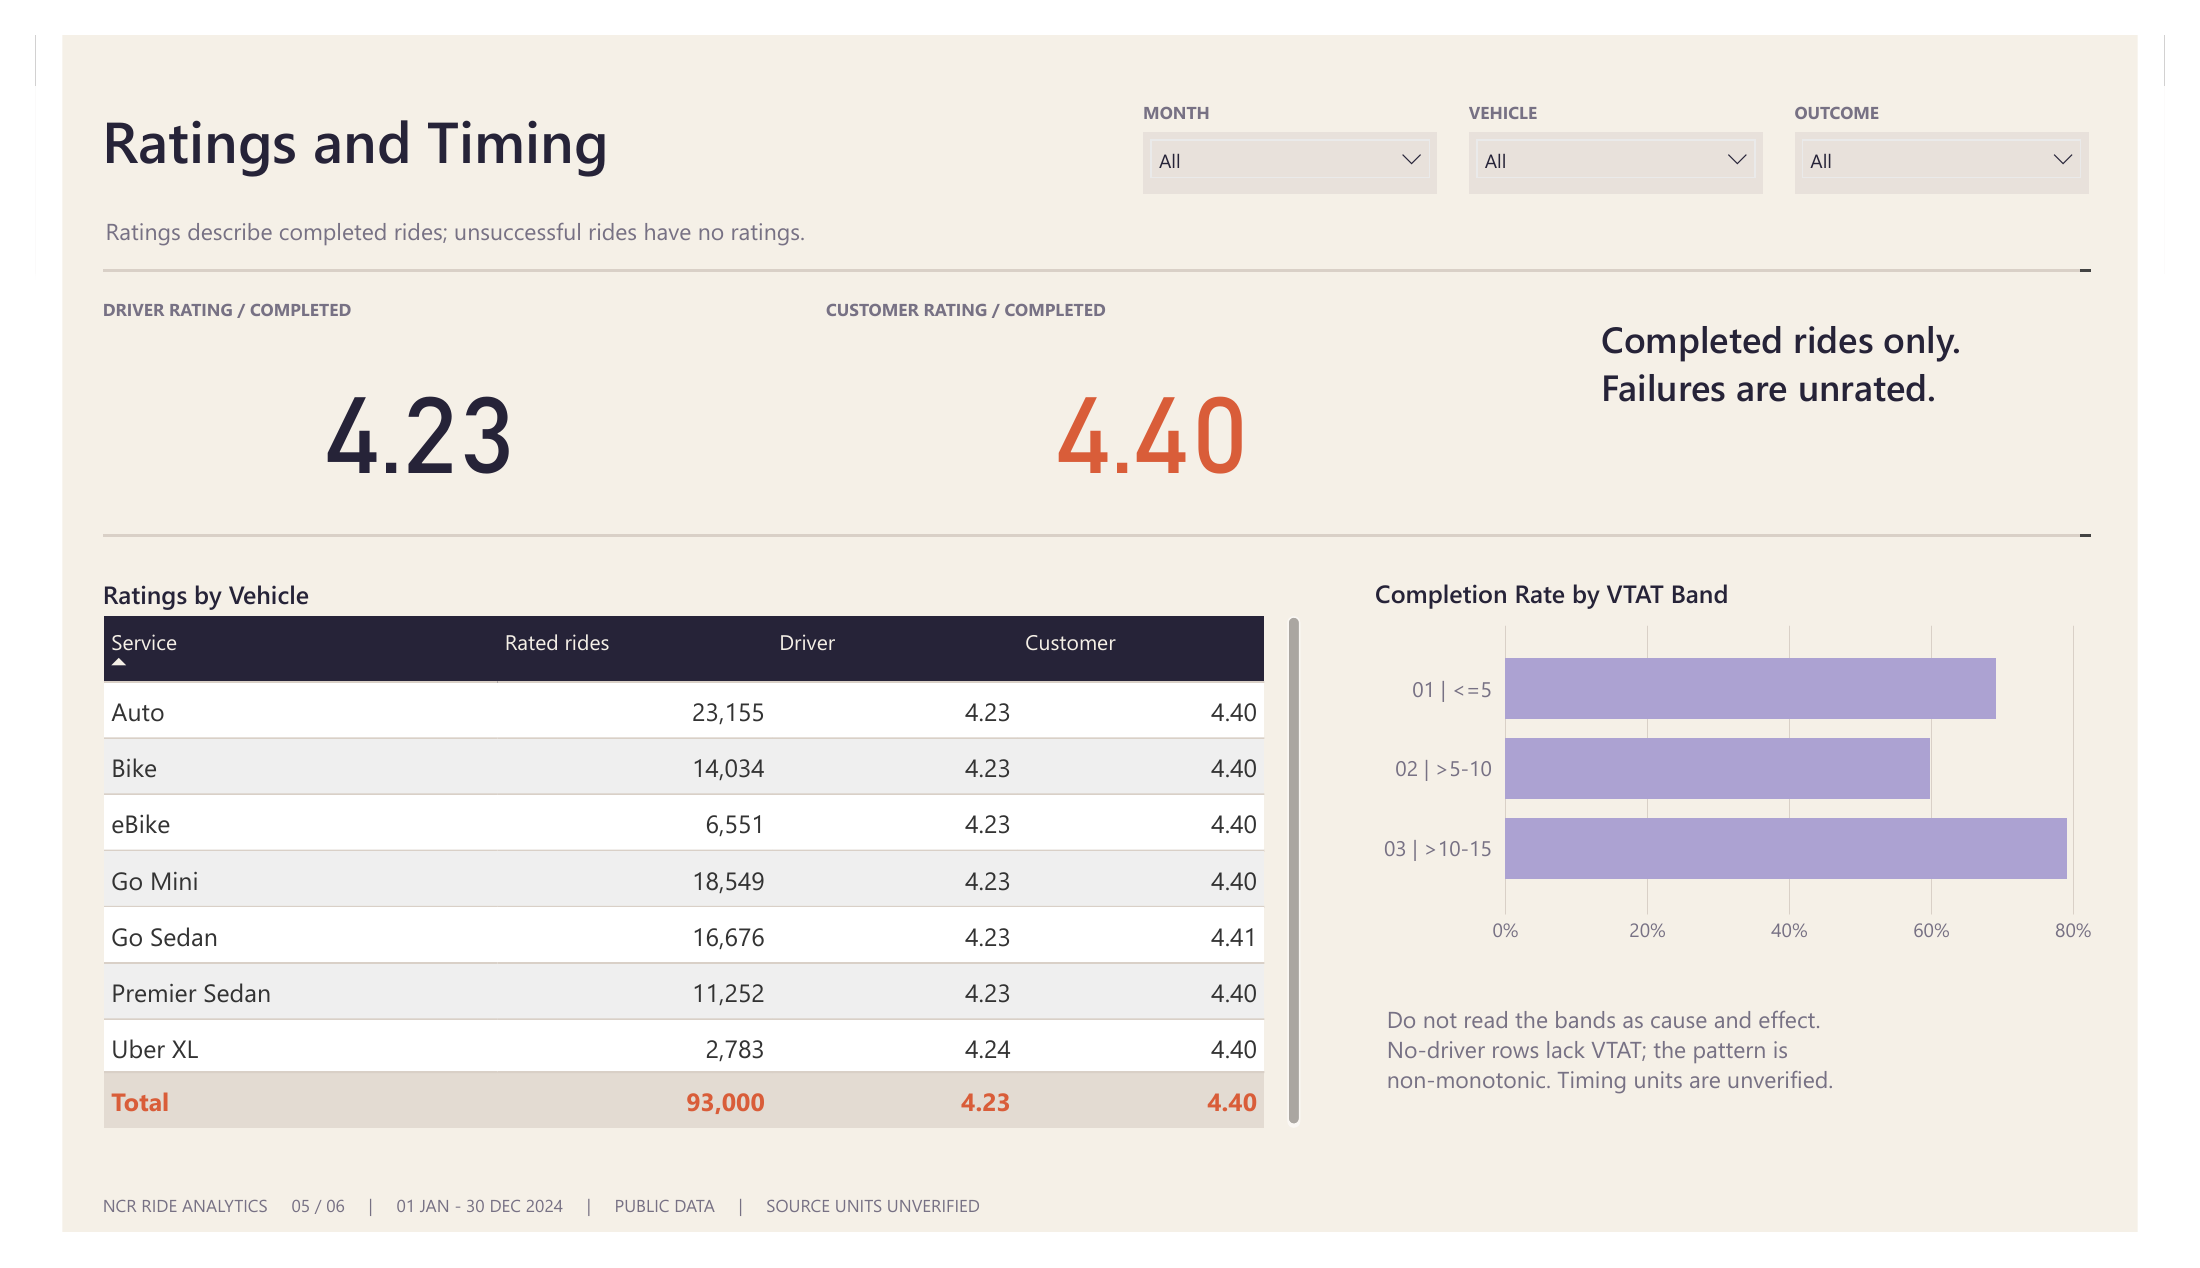

Layout of this report page (visuals, bound fields, positions):
{"tool":"powerbi","page":{"name":"05 / Ratings","canvas":[1440,810],"ordinal":4},"visuals":[{"type":"textbox","box":[28,26,680,62],"z":72},{"type":"textbox","box":[750,23,204,20],"z":73},{"type":"slicer","fields":{"Values":["Calendar.month"]},"box":[750,47,204,43],"z":74},{"type":"textbox","box":[976,23,204,20],"z":75},{"type":"slicer","fields":{"Values":["Vehicle.vehicle_type"]},"box":[976,47,204,43],"z":76},{"type":"textbox","box":[1202,23,204,20],"z":77},{"type":"slicer","fields":{"Values":["Status.status"]},"box":[1202,47,204,43],"z":78},{"type":"textbox","box":[30,105,1376,32],"z":79},{"type":"textbox","box":[28,142,1380,2],"z":80},{"type":"textbox","box":[28,782,1380,24],"z":81},{"type":"textbox","box":[28,160,453,25],"z":82},{"type":"card","fields":{"Values":["Bookings.Driver Rating"]},"box":[22.2,192,453,109],"z":83},{"type":"textbox","box":[529.8,160,470.4,25],"z":84},{"type":"card","fields":{"Values":["Bookings.Customer Rating"]},"box":[520.5,192,470.4,109],"z":85},{"type":"textbox","box":[1067.7,174,332.2,112],"z":86},{"type":"textbox","box":[28,326,1380,2],"z":87},{"type":"tableEx","title":"Ratings by Vehicle","fields":{"Values":["Vehicle.vehicle_type","Bookings.Rated Completed","Bookings.Driver Rating","Bookings.Customer Rating"]},"box":[28,356,830.6,382],"z":88},{"type":"barChart","title":"Completion Rate by VTAT Band","fields":{"Category":["Bookings.vtat_band"],"Y":["Bookings.Completion Rate"]},"box":[910.8,355,497.2,261],"z":89},{"type":"textbox","box":[919,652,477.4,86],"z":90}]}

Visuals, with their boxes in screenshot pixels (x1, y1, x2, y2), scaled from the page's 1440x810 canvas onto the 2200x1268 screenshot:
textbox: BBox(43, 41, 1082, 138)
textbox: BBox(1146, 36, 1458, 67)
slicer - Calendar.month: BBox(1146, 74, 1458, 141)
textbox: BBox(1491, 36, 1803, 67)
slicer - Vehicle.vehicle_type: BBox(1491, 74, 1803, 141)
textbox: BBox(1836, 36, 2148, 67)
slicer - Status.status: BBox(1836, 74, 2148, 141)
textbox: BBox(46, 164, 2148, 214)
textbox: BBox(43, 222, 2151, 225)
textbox: BBox(43, 1224, 2151, 1262)
textbox: BBox(43, 250, 735, 290)
card - Bookings.Driver Rating: BBox(34, 301, 726, 471)
textbox: BBox(809, 250, 1528, 290)
card - Bookings.Customer Rating: BBox(795, 301, 1514, 471)
textbox: BBox(1631, 272, 2139, 448)
textbox: BBox(43, 510, 2151, 513)
"Ratings by Vehicle" tableEx: BBox(43, 557, 1312, 1155)
"Completion Rate by VTAT Band" barChart: BBox(1391, 556, 2151, 964)
textbox: BBox(1404, 1021, 2133, 1155)
